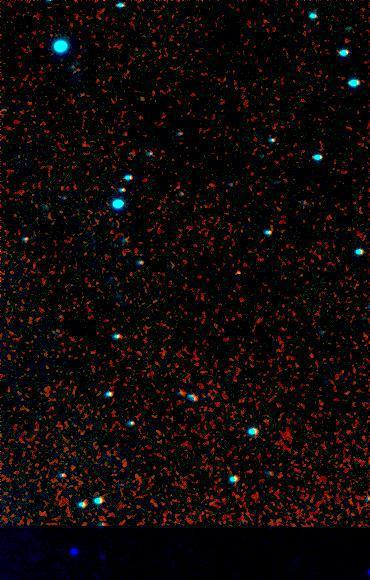star: (223, 257, 253, 287)
